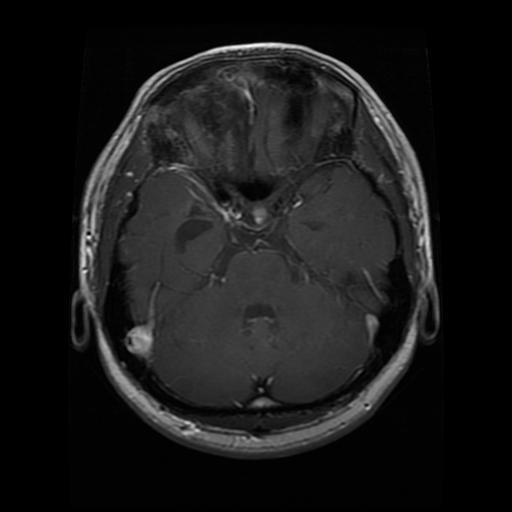Gliomia_tumour: (170, 202, 215, 255)
